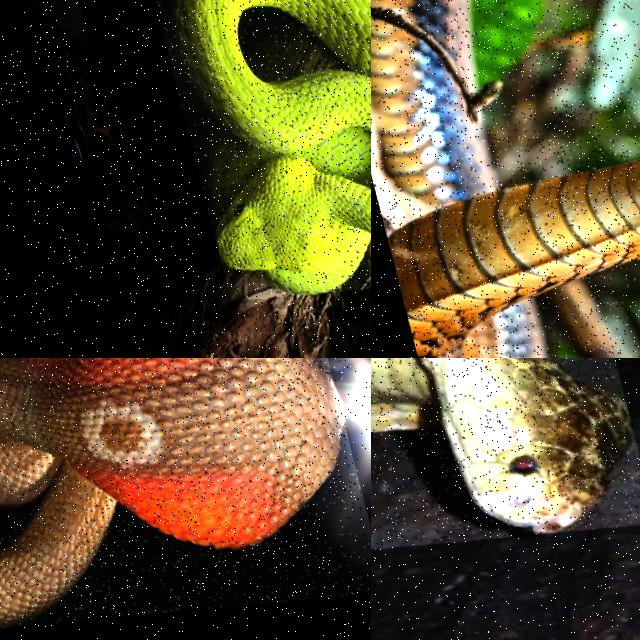Naja kaouthia: (0, 358, 341, 626), (371, 358, 631, 532)
Naja siamensis: (371, 19, 639, 357)
Trimeresurus: (173, 0, 370, 292)
snake: (0, 358, 341, 626), (371, 19, 639, 357), (173, 0, 370, 292), (371, 358, 631, 532)
